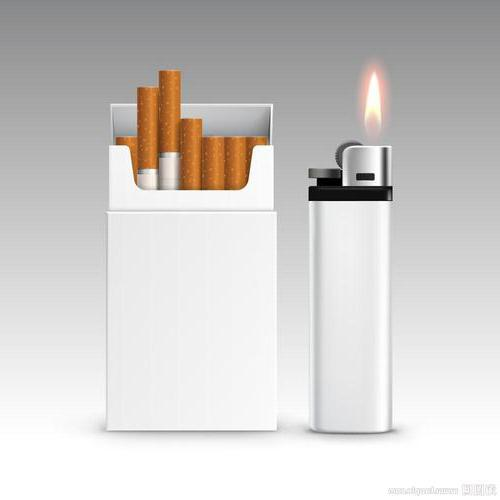fire: (358, 63, 395, 157)
